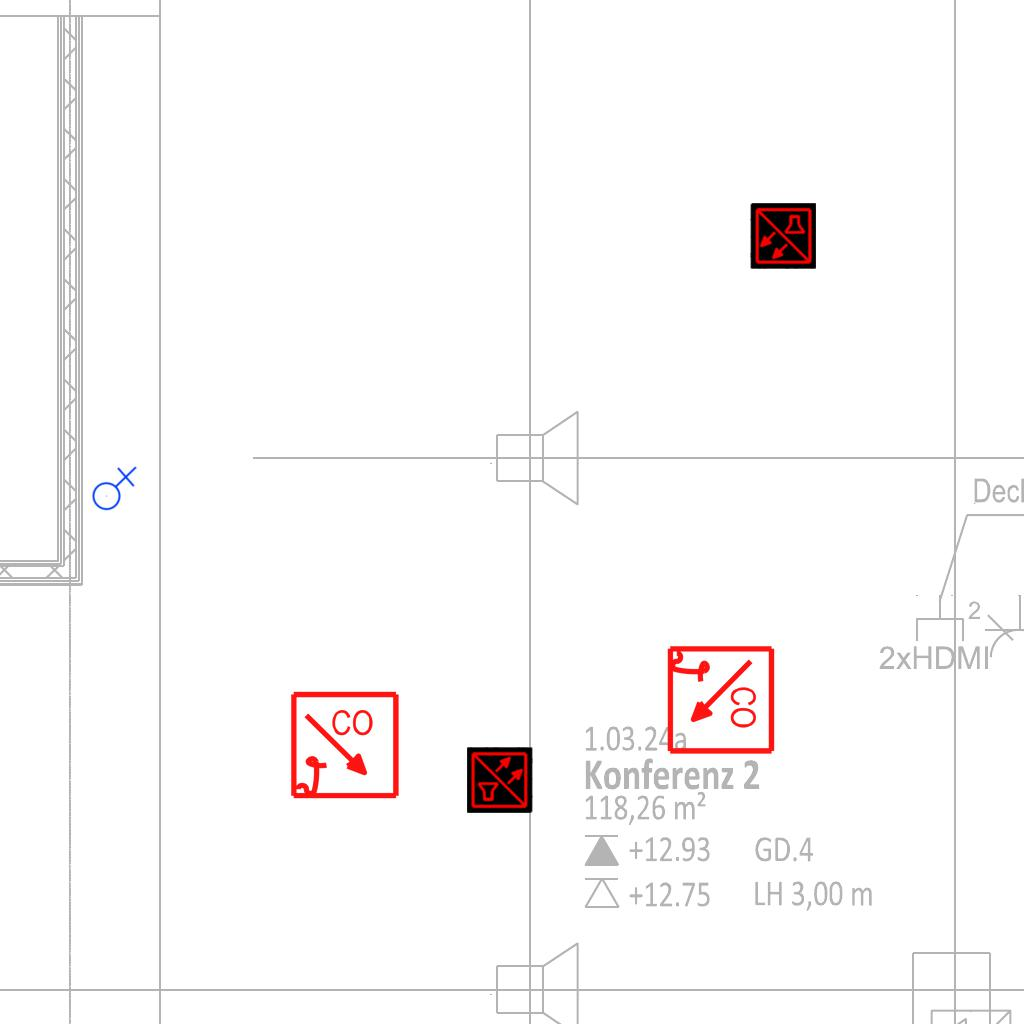Elektroanschluss_allgemein_230V_Geraeteanschlussdose_230V: (88, 464, 137, 511)
OKW_Multisensormelder_(Kombination_optischer_Rauch-Kahlenmonoxid_Waerme-Melder): (750, 203, 816, 269), (467, 747, 533, 813)
ROA_Rauchmelder_optisch_mit_Signalgeber_(Sockelsirene): (663, 644, 776, 757), (289, 690, 402, 803)
